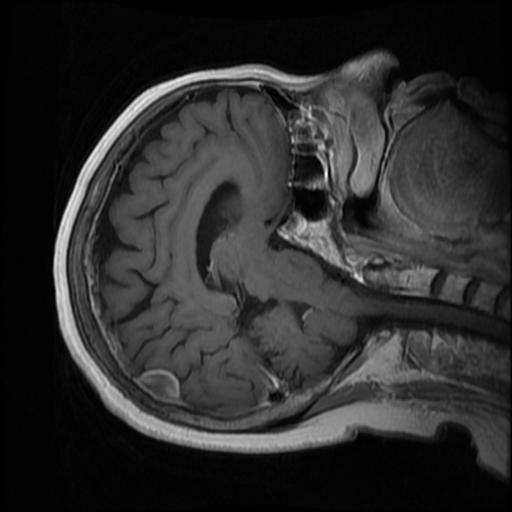meningioma: (136, 369, 181, 403)
